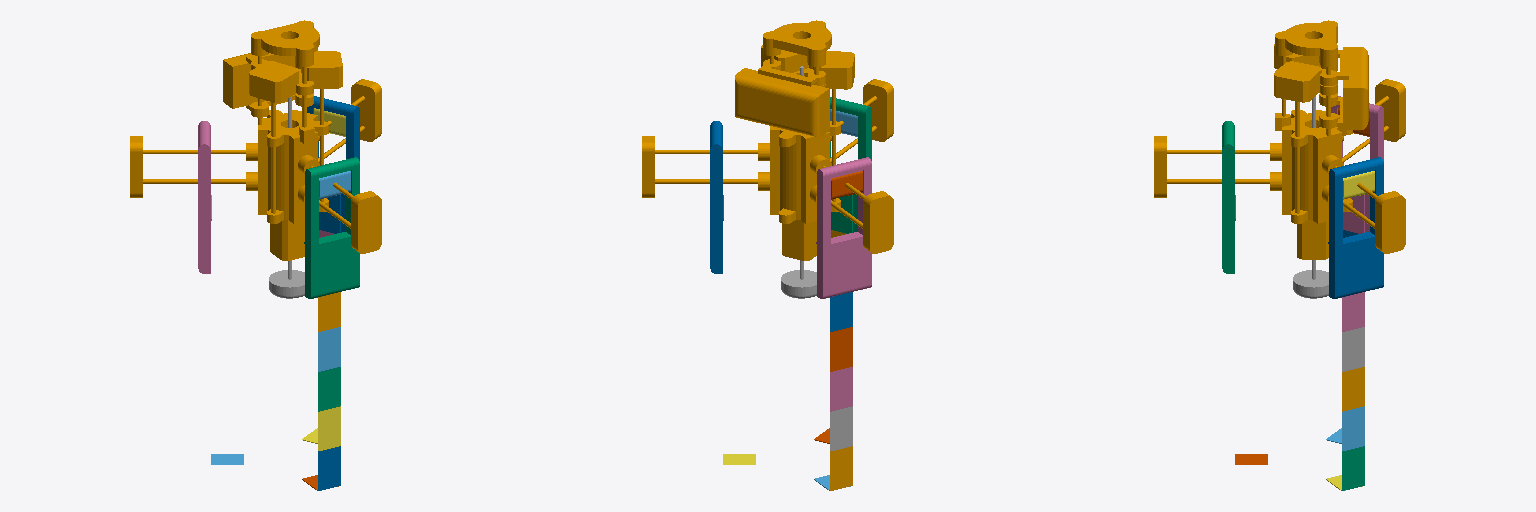
--- What the picture shows (computed from the rendered views, not written in the file) ---
Views: 3 orthographic renders of the robot side by side, from view 1: azimuth 30°, elevation 25°; view 2: azimuth 150°, elevation 25°; view 3: azimuth 270°, elevation 25°.
Model gripper with 27 links and 26 joints (18 revolute, 4 prismatic, 4 fixed), rooted at world, posed joints at zero except 3 at the middle of their limits (finger_1_prismatic_joint = 0.0915, finger_2_prismatic_joint = 0.0915, finger_3_prismatic_joint = 0.0915).
Visible links, largest first — view 1: gripper_base_link, finger_1, finger_3, finger_2, palm, finger_1_segment_link_2, finger_1_segment_link_3, finger_1_segment_link_5, finger_1_segment_link_4, finger_1_segment_link_1, finger_1_intermediate; view 2: gripper_base_link, finger_3, finger_2, finger_1, palm, finger_3_segment_link_2, finger_3_segment_link_3, finger_3_segment_link_5, finger_3_segment_link_4, finger_3_segment_link_1, finger_3_intermediate; view 3: gripper_base_link, finger_2, finger_1, finger_3, palm, finger_2_segment_link_2, finger_2_segment_link_3, finger_2_segment_link_5, finger_2_segment_link_4, finger_2_segment_link_1, finger_2_intermediate.
Link boxes in pixels (box(x1,y1,x2,y2)): gripper_base_link: box(130, 20, 381, 260); finger_1: box(304, 157, 359, 298); finger_3: box(198, 121, 211, 273); finger_2: box(307, 96, 359, 233); palm: box(269, 96, 304, 298); finger_1_segment_link_2: box(318, 327, 340, 371); finger_1_segment_link_3: box(318, 367, 340, 411); finger_1_segment_link_5: box(318, 446, 340, 490); finger_1_segment_link_4: box(318, 406, 340, 450); finger_1_segment_link_1: box(318, 292, 340, 331); finger_1_intermediate: box(319, 171, 350, 199); gripper_base_link: box(642, 20, 893, 260); finger_3: box(816, 157, 871, 298); finger_2: box(710, 121, 723, 273); finger_1: box(830, 97, 871, 233); palm: box(781, 66, 816, 298); finger_3_segment_link_2: box(830, 327, 852, 371); finger_3_segment_link_3: box(830, 367, 852, 411); finger_3_segment_link_5: box(830, 446, 852, 490); finger_3_segment_link_4: box(830, 406, 852, 450); finger_3_segment_link_1: box(830, 292, 852, 331); finger_3_intermediate: box(831, 171, 862, 199); gripper_base_link: box(1154, 20, 1405, 259); finger_2: box(1328, 157, 1383, 298); finger_1: box(1222, 121, 1235, 273); finger_3: box(1331, 96, 1383, 233); palm: box(1293, 96, 1328, 298); finger_2_segment_link_2: box(1342, 327, 1364, 371); finger_2_segment_link_3: box(1342, 367, 1364, 411); finger_2_segment_link_5: box(1342, 446, 1364, 490); finger_2_segment_link_4: box(1342, 406, 1364, 450); finger_2_segment_link_1: box(1342, 292, 1364, 331); finger_2_intermediate: box(1343, 171, 1374, 199).
Size in the robot's own frame: 0.3116 by 0.2699 by 0.5023 metres.
Meshes: 4 distinct files referenced, 8 mesh visuals loaded (4 binary STL).

URDF robot description (gripper):
<?xml version="1.0" ?>
<!-- =================================================================================== -->
<!-- |    This document was autogenerated by xacro from gripper.urdf.xacro             | -->
<!-- |    EDITING THIS FILE BY HAND IS NOT RECOMMENDED                                 | -->
<!-- =================================================================================== -->
<robot name="gripper">
  <!-- PARAMETERS TO BE SET BY HAND -->
  <!-- END OF PARAMETERS TO BE SET BY HAND -->
  <!-- PARAMETERS TO BE SET BY HAND -->
  <!-- END OF PARAMETER TO BE SET BY HAND -->
  <!-- BASE LINK -->
  <link name="gripper_base_link">
    <inertial>
      <mass value="1.5"/>
      <origin rpy="3.141592653589793 0 0" xyz="0 0 0.025"/>
      <inertia ixx="9.95e-3" ixy="2.73e-6" ixz="-14.32e-6" iyy="10.08e-3" iyz="121.38e-6" izz="5.13e-3"/>
    </inertial>
    <visual>
      <geometry>
        <mesh filename="package://gripper_description/meshes/main body visual.STL"/>
      </geometry>
    </visual>
    <collision>
      <geometry>
        <!--          <mesh filename="package://gripper_description/meshes/main body collision.STL"/>-->
        <cylinder length="0.1" radius="0.03"/>
      </geometry>
    </collision>
  </link>
  <!-- Intermediate link for prismatic joint -->
  <link name="finger_1_intermediate">
    <inertial>
      <mass value="0.1"/>
      <origin rpy="0 0 0" xyz="0 0 0"/>
      <inertia ixx="55.59e-6" ixy="-47.23e-6" ixz="1.16e-6" iyy="146.36e-6" iyz="1.00e-6" izz="154.18e-6"/>
    </inertial>
    <visual>
      <geometry>
        <mesh filename="package://gripper_description/meshes/nut visual.STL"/>
      </geometry>
    </visual>
    <collision>
      <geometry>
        <mesh filename="package://gripper_description/meshes/nut collision.STL"/>
      </geometry>
    </collision>
  </link>
  <!-- Main finger link -->
  <link name="finger_1">
    <inertial>
      <mass value="0.1"/>
      <origin rpy="0 0 0" xyz="0 0 0"/>
      <inertia ixx="55.59e-6" ixy="-47.23e-6" ixz="1.16e-6" iyy="146.36e-6" iyz="1.00e-6" izz="154.18e-6"/>
    </inertial>
    <visual>
      <geometry>
        <mesh filename="package://gripper_description/meshes/platform only visual.STL"/>
      </geometry>
    </visual>
    <collision>
      <geometry>
        <mesh filename="package://gripper_description/meshes/platform only collision.STL"/>
      </geometry>
    </collision>
  </link>
  <joint name="finger_1_prismatic_joint" type="prismatic">
    <axis rpy="0 0 0" xyz="0 1 0"/>
    <parent link="gripper_base_link"/>
    <child link="finger_1_intermediate"/>
    <origin rpy="4.71238898038469                    4.71238898038469                    1.5707963267948966" xyz="0.0                    0.0                    0"/>
    <limit effort="40.0" lower="0.049" upper="0.134" velocity="0.015"/>
    <dynamics damping="1.0"/>
  </joint>
  <joint name="finger_1_revolute_joint" type="revolute">
    <axis rpy="0 0 0" xyz="0 0 1"/>
    <parent link="finger_1_intermediate"/>
    <child link="finger_1"/>
    <origin rpy="0 0 0.0" xyz="0 0 0"/>
    <limit effort="40.0" lower="-0.7" upper="0.7" velocity="0.1"/>
    <dynamics damping="1.0"/>
  </joint>
  <!-- Intermediate link for prismatic joint -->
  <link name="finger_2_intermediate">
    <inertial>
      <mass value="0.1"/>
      <origin rpy="0 0 0" xyz="0 0 0"/>
      <inertia ixx="55.59e-6" ixy="-47.23e-6" ixz="1.16e-6" iyy="146.36e-6" iyz="1.00e-6" izz="154.18e-6"/>
    </inertial>
    <visual>
      <geometry>
        <mesh filename="package://gripper_description/meshes/nut visual.STL"/>
      </geometry>
    </visual>
    <collision>
      <geometry>
        <mesh filename="package://gripper_description/meshes/nut collision.STL"/>
      </geometry>
    </collision>
  </link>
  <!-- Main finger link -->
  <link name="finger_2">
    <inertial>
      <mass value="0.1"/>
      <origin rpy="0 0 0" xyz="0 0 0"/>
      <inertia ixx="55.59e-6" ixy="-47.23e-6" ixz="1.16e-6" iyy="146.36e-6" iyz="1.00e-6" izz="154.18e-6"/>
    </inertial>
    <visual>
      <geometry>
        <mesh filename="package://gripper_description/meshes/platform only visual.STL"/>
      </geometry>
    </visual>
    <collision>
      <geometry>
        <mesh filename="package://gripper_description/meshes/platform only collision.STL"/>
      </geometry>
    </collision>
  </link>
  <joint name="finger_2_prismatic_joint" type="prismatic">
    <axis rpy="0 0 0" xyz="0 1 0"/>
    <parent link="gripper_base_link"/>
    <child link="finger_2_intermediate"/>
    <origin rpy="4.71238898038469                    4.71238898038469                    -0.5235987755982987" xyz="0.0                    -0.0                    0"/>
    <limit effort="40.0" lower="0.049" upper="0.134" velocity="0.015"/>
    <dynamics damping="1.0"/>
  </joint>
  <joint name="finger_2_revolute_joint" type="revolute">
    <axis rpy="0 0 0" xyz="0 0 1"/>
    <parent link="finger_2_intermediate"/>
    <child link="finger_2"/>
    <origin rpy="0 0 0.0" xyz="0 0 0"/>
    <limit effort="40.0" lower="-0.7" upper="0.7" velocity="0.1"/>
    <dynamics damping="1.0"/>
  </joint>
  <!-- Intermediate link for prismatic joint -->
  <link name="finger_3_intermediate">
    <inertial>
      <mass value="0.1"/>
      <origin rpy="0 0 0" xyz="0 0 0"/>
      <inertia ixx="55.59e-6" ixy="-47.23e-6" ixz="1.16e-6" iyy="146.36e-6" iyz="1.00e-6" izz="154.18e-6"/>
    </inertial>
    <visual>
      <geometry>
        <mesh filename="package://gripper_description/meshes/nut visual.STL"/>
      </geometry>
    </visual>
    <collision>
      <geometry>
        <mesh filename="package://gripper_description/meshes/nut collision.STL"/>
      </geometry>
    </collision>
  </link>
  <!-- Main finger link -->
  <link name="finger_3">
    <inertial>
      <mass value="0.1"/>
      <origin rpy="0 0 0" xyz="0 0 0"/>
      <inertia ixx="55.59e-6" ixy="-47.23e-6" ixz="1.16e-6" iyy="146.36e-6" iyz="1.00e-6" izz="154.18e-6"/>
    </inertial>
    <visual>
      <geometry>
        <mesh filename="package://gripper_description/meshes/platform only visual.STL"/>
      </geometry>
    </visual>
    <collision>
      <geometry>
        <mesh filename="package://gripper_description/meshes/platform only collision.STL"/>
      </geometry>
    </collision>
  </link>
  <joint name="finger_3_prismatic_joint" type="prismatic">
    <axis rpy="0 0 0" xyz="0 1 0"/>
    <parent link="gripper_base_link"/>
    <child link="finger_3_intermediate"/>
    <origin rpy="4.71238898038469                    4.71238898038469                    -2.617993877991494" xyz="-0.0                    -0.0                    0"/>
    <limit effort="40.0" lower="0.049" upper="0.134" velocity="0.015"/>
    <dynamics damping="1.0"/>
  </joint>
  <joint name="finger_3_revolute_joint" type="revolute">
    <axis rpy="0 0 0" xyz="0 0 1"/>
    <parent link="finger_3_intermediate"/>
    <child link="finger_3"/>
    <origin rpy="0 0 0.0" xyz="0 0 0"/>
    <limit effort="40.0" lower="-0.7" upper="0.7" velocity="0.1"/>
    <dynamics damping="1.0"/>
  </joint>
  <!-- PALM -->
  <link name="palm">
    <inertial>
      <mass value="0.05"/>
      <origin rpy="0 0 0" xyz="0 0 0"/>
      <inertia ixx="10.0e-6" ixy="0.0" ixz="0.0" iyy="10.0e-6" iyz="0.0" izz="10.0e-6"/>
    </inertial>
    <visual>
      <origin rpy="0 0 0" xyz="0 0 0"/>
      <geometry>
        <mesh filename="package://gripper_description/meshes/palm visual.STL"/>
      </geometry>
    </visual>
    <collision>
      <geometry>
        <mesh filename="package://gripper_description/meshes/palm collision.STL"/>
      </geometry>
    </collision>
  </link>
  <joint name="palm_prismatic_joint" type="prismatic">
    <axis rpy="0 0 0" xyz="1 0 0"/>
    <parent link="gripper_base_link"/>
    <child link="palm"/>
    <origin rpy="0 -1.5707963267948966 0" xyz="0 0 0"/>
    <limit effort="40.0" lower="0.0" upper="0.165" velocity="0.036"/>
    <dynamics damping="1.0"/>
  </joint>
  <!-- PARAMETERS TO BE SET BY HAND -->
  <!-- END OF PARAMETERS TO BE SET BY HAND -->
  <joint name="finger_1_segment_joint_0" type="revolute">
    <origin rpy="1.5707963267948966 0 0" xyz="0.129 -0.007 0"/>
    <parent link="finger_1"/>
    <child link="finger_1_segment_link_1"/>
    <axis rpy="0 0 0" xyz="0 1 0"/>
    <limit effort="1000.0" lower="-1.0" upper="1.0" velocity="1.0"/>
    <dynamics damping="0.01" friction="0.0"/>
  </joint>
  <!-- END TESTING OF BASE JOINT (rather than fixed) -->
  <link name="finger_1_segment_link_1">
    <inertial>
      <mass value="0.013055555555555555"/>
      <inertia ixx="4.2692210648148146e-05" ixy="0.00" ixz="0.00" iyy="0.00048070609953703705" iyz="0.00" izz="0.0005233101851851851"/>
    </inertial>
    <visual>
      <origin rpy="0 0 0" xyz="0.0235 0 0"/>
      <geometry>
        <box size="0.047 0.028 0.0009"/>
      </geometry>
    </visual>
    <collision>
      <origin rpy="0 0 0" xyz="0.0235 0 0"/>
      <geometry>
        <box size="0.047 0.028 0.0009"/>
      </geometry>
    </collision>
  </link>
  <gazebo reference="finger_1_segment_link_1">
    <material>Gazebo/Orange</material>
    <mu1>0.1</mu1>
    <mu2>0.1</mu2>
    <maxVel>0.0</maxVel>
    <minDepth>0.001</minDepth>
    <!-- <kp>100</kp>
        <kd>1</kd> -->
  </gazebo>
  <link name="finger_1_segment_link_2">
    <inertial>
      <mass value="0.013055555555555555"/>
      <inertia ixx="4.2692210648148146e-05" ixy="0.00" ixz="0.00" iyy="0.00048070609953703705" iyz="0.00" izz="0.0005233101851851851"/>
    </inertial>
    <visual>
      <origin rpy="0 0 0" xyz="0.0235 0 0"/>
      <geometry>
        <box size="0.047 0.028 0.0009"/>
      </geometry>
    </visual>
    <collision>
      <origin rpy="0 0 0" xyz="0.0235 0 0"/>
      <geometry>
        <box size="0.047 0.028 0.0009"/>
      </geometry>
    </collision>
  </link>
  <gazebo reference="finger_1_segment_link_2">
    <material>Gazebo/Orange</material>
    <mu1>0.1</mu1>
    <mu2>0.1</mu2>
    <maxVel>0.0</maxVel>
    <minDepth>0.001</minDepth>
    <!-- <kp>100</kp>
        <kd>1</kd> -->
  </gazebo>
  <!-- bending joint -->
  <joint name="finger_1_segment_joint_1" type="revolute">
    <axis rpy="0 0 0" xyz="0 1 0"/>
    <parent link="finger_1_segment_link_1"/>
    <child link="finger_1_segment_link_2"/>
    <origin rpy="0 0 0" xyz="0.047 0 0"/>
    <limit effort="1000.0" lower="-1.0" upper="1.0" velocity="1.0"/>
    <dynamics damping="0.01" friction="0.0"/>
  </joint>
  <gazebo reference="finger_1_segment_joint_1">
    <provideFeedback>1</provideFeedback>
    <springReference>0.0</springReference>
    <implicitSpringDamper>1</implicitSpringDamper>
    <springStiffness>3.0</springStiffness>
  </gazebo>
  <!-- set transmission for gazebo ROS controllers-->
  <transmission name="finger_1_segment_tran_1">
    <type>transmission_interface/SimpleTransmission</type>
    <joint name="finger_1_segment_joint_1">
      <hardwareInterface>hardware_interface/EffortJointInterface</hardwareInterface>
    </joint>
    <actuator name="finger_1_segment_motor_1">
      <hardwareInterface>hardware_interface/EffortJointInterface</hardwareInterface>
      <mechanicalReduction>1</mechanicalReduction>
    </actuator>
  </transmission>
  <link name="finger_1_segment_link_3">
    <inertial>
      <mass value="0.013055555555555555"/>
      <inertia ixx="4.2692210648148146e-05" ixy="0.00" ixz="0.00" iyy="0.00048070609953703705" iyz="0.00" izz="0.0005233101851851851"/>
    </inertial>
    <visual>
      <origin rpy="0 0 0" xyz="0.0235 0 0"/>
      <geometry>
        <box size="0.047 0.028 0.0009"/>
      </geometry>
    </visual>
    <collision>
      <origin rpy="0 0 0" xyz="0.0235 0 0"/>
      <geometry>
        <box size="0.047 0.028 0.0009"/>
      </geometry>
    </collision>
  </link>
  <gazebo reference="finger_1_segment_link_3">
    <material>Gazebo/Orange</material>
    <mu1>0.1</mu1>
    <mu2>0.1</mu2>
    <maxVel>0.0</maxVel>
    <minDepth>0.001</minDepth>
    <!-- <kp>100</kp>
        <kd>1</kd> -->
  </gazebo>
  <!-- bending joint -->
  <joint name="finger_1_segment_joint_2" type="revolute">
    <axis rpy="0 0 0" xyz="0 1 0"/>
    <parent link="finger_1_segment_link_2"/>
    <child link="finger_1_segment_link_3"/>
    <origin rpy="0 0 0" xyz="0.047 0 0"/>
    <limit effort="1000.0" lower="-1.0" upper="1.0" velocity="1.0"/>
    <dynamics damping="0.01" friction="0.0"/>
  </joint>
  <gazebo reference="finger_1_segment_joint_2">
    <provideFeedback>1</provideFeedback>
    <springReference>0.0</springReference>
    <implicitSpringDamper>1</implicitSpringDamper>
    <springStiffness>3.0</springStiffness>
  </gazebo>
  <!-- set transmission for gazebo ROS controllers-->
  <transmission name="finger_1_segment_tran_2">
    <type>transmission_interface/SimpleTransmission</type>
    <joint name="finger_1_segment_joint_2">
      <hardwareInterface>hardware_interface/EffortJointInterface</hardwareInterface>
    </joint>
    <actuator name="finger_1_segment_motor_2">
      <hardwareInterface>hardware_interface/EffortJointInterface</hardwareInterface>
      <mechanicalReduction>1</mechanicalReduction>
    </actuator>
  </transmission>
  <link name="finger_1_segment_link_4">
    <inertial>
      <mass value="0.013055555555555555"/>
      <inertia ixx="4.2692210648148146e-05" ixy="0.00" ixz="0.00" iyy="0.00048070609953703705" iyz="0.00" izz="0.0005233101851851851"/>
    </inertial>
    <visual>
      <origin rpy="0 0 0" xyz="0.0235 0 0"/>
      <geometry>
        <box size="0.047 0.028 0.0009"/>
      </geometry>
    </visual>
    <collision>
      <origin rpy="0 0 0" xyz="0.0235 0 0"/>
      <geometry>
        <box size="0.047 0.028 0.0009"/>
      </geometry>
    </collision>
  </link>
  <gazebo reference="finger_1_segment_link_4">
    <material>Gazebo/Orange</material>
    <mu1>0.1</mu1>
    <mu2>0.1</mu2>
    <maxVel>0.0</maxVel>
    <minDepth>0.001</minDepth>
    <!-- <kp>100</kp>
        <kd>1</kd> -->
  </gazebo>
  <!-- bending joint -->
  <joint name="finger_1_segment_joint_3" type="revolute">
    <axis rpy="0 0 0" xyz="0 1 0"/>
    <parent link="finger_1_segment_link_3"/>
    <child link="finger_1_segment_link_4"/>
    <origin rpy="0 0 0" xyz="0.047 0 0"/>
    <limit effort="1000.0" lower="-1.0" upper="1.0" velocity="1.0"/>
    <dynamics damping="0.01" friction="0.0"/>
  </joint>
  <gazebo reference="finger_1_segment_joint_3">
    <provideFeedback>1</provideFeedback>
    <springReference>0.0</springReference>
    <implicitSpringDamper>1</implicitSpringDamper>
    <springStiffness>3.0</springStiffness>
  </gazebo>
  <!-- set transmission for gazebo ROS controllers-->
  <transmission name="finger_1_segment_tran_3">
    <type>transmission_interface/SimpleTransmission</type>
    <joint name="finger_1_segment_joint_3">
      <hardwareInterface>hardware_interface/EffortJointInterface</hardwareInterface>
    </joint>
    <actuator name="finger_1_segment_motor_3">
      <hardwareInterface>hardware_interface/EffortJointInterface</hardwareInterface>
      <mechanicalReduction>1</mechanicalReduction>
    </actuator>
  </transmission>
  <link name="finger_1_segment_link_5">
    <inertial>
      <mass value="0.013055555555555555"/>
      <inertia ixx="4.2692210648148146e-05" ixy="0.00" ixz="0.00" iyy="0.00048070609953703705" iyz="0.00" izz="0.0005233101851851851"/>
    </inertial>
    <visual>
      <origin rpy="0 0 0" xyz="0.0235 0 0"/>
      <geometry>
        <box size="0.047 0.028 0.0009"/>
      </geometry>
    </visual>
    <collision>
      <origin rpy="0 0 0" xyz="0.0235 0 0"/>
      <geometry>
        <box size="0.047 0.028 0.0009"/>
      </geometry>
    </collision>
  </link>
  <gazebo reference="finger_1_segment_link_5">
    <material>Gazebo/Orange</material>
    <mu1>0.1</mu1>
    <mu2>0.1</mu2>
    <maxVel>0.0</maxVel>
    <minDepth>0.001</minDepth>
    <!-- <kp>100</kp>
        <kd>1</kd> -->
  </gazebo>
  <!-- bending joint -->
  <joint name="finger_1_segment_joint_4" type="revolute">
    <axis rpy="0 0 0" xyz="0 1 0"/>
    <parent link="finger_1_segment_link_4"/>
    <child link="finger_1_segment_link_5"/>
    <origin rpy="0 0 0" xyz="0.047 0 0"/>
    <limit effort="1000.0" lower="-1.0" upper="1.0" velocity="1.0"/>
    <dynamics damping="0.01" friction="0.0"/>
  </joint>
  <gazebo reference="finger_1_segment_joint_4">
    <provideFeedback>1</provideFeedback>
    <springReference>0.0</springReference>
    <implicitSpringDamper>1</implicitSpringDamper>
    <springStiffness>3.0</springStiffness>
  </gazebo>
  <!-- set transmission for gazebo ROS controllers-->
  <transmission name="finger_1_segment_tran_4">
    <type>transmission_interface/SimpleTransmission</type>
    <joint name="finger_1_segment_joint_4">
      <hardwareInterface>hardware_interface/EffortJointInterface</hardwareInterface>
    </joint>
    <actuator name="finger_1_segment_motor_4">
      <hardwareInterface>hardware_interface/EffortJointInterface</hardwareInterface>
      <mechanicalReduction>1</mechanicalReduction>
    </actuator>
  </transmission>
  <!-- Add the finger hook link -->
  <link name="finger_1_finger_hook_link">
    <inertial>
      <mass value="0.009722222222222222"/>
      <inertia ixx="3.179207175925926e-05" ixy="0.00" ixz="0.00" iyy="0.00019852818287037038" iyz="0.00" izz="0.00023025462962962965"/>
    </inertial>
    <visual>
      <origin rpy="0 0 0" xyz="0.0175 0 0"/>
      <geometry>
        <box size="0.035 0.028 0.0009"/>
      </geometry>
    </visual>
    <collision>
      <origin rpy="0 0 0" xyz="0.0175 0 0"/>
      <geometry>
        <box size="0.035 0.028 0.0009"/>
      </geometry>
    </collision>
  </link>
  <gazebo reference="finger_1_finger_hook_link">
    <material>Gazebo/Orange</material>
    <mu1>0.1</mu1>
    <mu2>0.1</mu2>
    <maxVel>0.0</maxVel>
    <minDepth>0.001</minDepth>
    <!-- <kp>100</kp>
        <kd>1</kd> -->
  </gazebo>
  <joint name="finger_1_finger_hook_joint" type="fixed">
    <parent link="finger_1_segment_link_5"/>
    <child link="finger_1_finger_hook_link"/>
    <origin rpy="0 -1.5707963267948502 0" xyz="0.047 0 0"/>
  </joint>
  <!-- PARAMETERS TO BE SET BY HAND -->
  <!-- END OF PARAMETERS TO BE SET BY HAND -->
  <joint name="finger_2_segment_joint_0" type="revolute">
    <origin rpy="1.5707963267948966 0 0" xyz="0.129 -0.007 0"/>
    <parent link="finger_2"/>
    <child link="finger_2_segment_link_1"/>
    <axis rpy="0 0 0" xyz="0 1 0"/>
    <limit effort="1000.0" lower="-1.0" upper="1.0" velocity="1.0"/>
    <dynamics damping="0.01" friction="0.0"/>
  </joint>
  <!-- END TESTING OF BASE JOINT (rather than fixed) -->
  <link name="finger_2_segment_link_1">
    <inertial>
      <mass value="0.013055555555555555"/>
      <inertia ixx="4.2692210648148146e-05" ixy="0.00" ixz="0.00" iyy="0.00048070609953703705" iyz="0.00" izz="0.0005233101851851851"/>
    </inertial>
    <visual>
      <origin rpy="0 0 0" xyz="0.0235 0 0"/>
      <geometry>
        <box size="0.047 0.028 0.0009"/>
      </geometry>
    </visual>
    <collision>
      <origin rpy="0 0 0" xyz="0.0235 0 0"/>
      <geometry>
        <box size="0.047 0.028 0.0009"/>
      </geometry>
    </collision>
  </link>
  <gazebo reference="finger_2_segment_link_1">
    <material>Gazebo/Orange</material>
    <mu1>0.1</mu1>
    <mu2>0.1</mu2>
    <maxVel>0.0</maxVel>
    <minDepth>0.001</minDepth>
    <!-- <kp>100</kp>
        <kd>1</kd> -->
  </gazebo>
  <link name="finger_2_segment_link_2">
    <inertial>
      <mass value="0.013055555555555555"/>
      <inertia ixx="4.2692210648148146e-05" ixy="0.00" ixz="0.00" iyy="0.00048070609953703705" iyz="0.00" izz="0.0005233101851851851"/>
    </inertial>
    <visual>
      <origin rpy="0 0 0" xyz="0.0235 0 0"/>
      <geometry>
        <box size="0.047 0.028 0.0009"/>
      </geometry>
    </visual>
    <collision>
      <origin rpy="0 0 0" xyz="0.0235 0 0"/>
      <geometry>
        <box size="0.047 0.028 0.0009"/>
      </geometry>
    </collision>
  </link>
  <gazebo reference="finger_2_segment_link_2">
    <material>Gazebo/Orange</material>
    <mu1>0.1</mu1>
    <mu2>0.1</mu2>
    <maxVel>0.0</maxVel>
    <minDepth>0.001</minDepth>
    <!-- <kp>100</kp>
        <kd>1</kd> -->
  </gazebo>
  <!-- bending joint -->
  <joint name="finger_2_segment_joint_1" type="revolute">
    <axis rpy="0 0 0" xyz="0 1 0"/>
    <parent link="finger_2_segment_link_1"/>
    <child link="finger_2_segment_link_2"/>
    <origin rpy="0 0 0" xyz="0.047 0 0"/>
    <limit effort="1000.0" lower="-1.0" upper="1.0" velocity="1.0"/>
    <dynamics damping="0.01" friction="0.0"/>
  </joint>
  <gazebo reference="finger_2_segment_joint_1">
    <provideFeedback>1</provideFeedback>
    <springReference>0.0</springReference>
    <implicitSpringDamper>1</implicitSpringDamper>
    <springStiffness>3.0</springStiffness>
  </gazebo>
  <!-- set transmission for gazebo ROS controllers-->
  <transmission name="finger_2_segment_tran_1">
    <type>transmission_interface/SimpleTransmission</type>
    <joint name="finger_2_segment_joint_1">
      <hardwareInterface>hardware_interface/EffortJointInterface</hardwareInterface>
    </joint>
    <actuator name="finger_2_segment_motor_1">
      <hardwareInterface>hardware_interface/EffortJointInterface</hardwareInterface>
      <mechanicalReduction>1</mechanicalReduction>
    </actuator>
  </transmission>
  <link name="finger_2_segment_link_3">
    <inertial>
      <mass value="0.013055555555555555"/>
      <inertia ixx="4.2692210648148146e-05" ixy="0.00" ixz="0.00" iyy="0.00048070609953703705" iyz="0.00" izz="0.0005233101851851851"/>
    </inertial>
    <visual>
      <origin rpy="0 0 0" xyz="0.0235 0 0"/>
      <geometry>
        <box size="0.047 0.028 0.0009"/>
      </geometry>
    </visual>
    <collision>
      <origin rpy="0 0 0" xyz="0.0235 0 0"/>
      <geometry>
        <box size="0.047 0.028 0.0009"/>
      </geometry>
    </collision>
  </link>
  <gazebo reference="finger_2_segment_link_3">
    <material>Gazebo/Orange</material>
    <mu1>0.1</mu1>
    <mu2>0.1</mu2>
    <maxVel>0.0</maxVel>
    <minDepth>0.001</minDepth>
    <!-- <kp>100</kp>
        <kd>1</kd> -->
  </gazebo>
  <!-- bending joint -->
  <joint name="finger_2_segment_joint_2" type="revolute">
    <axis rpy="0 0 0" xyz="0 1 0"/>
    <parent link="finger_2_segment_link_2"/>
    <child link="finger_2_segment_link_3"/>
    <origin rpy="0 0 0" xyz="0.047 0 0"/>
    <limit effort="1000.0" lower="-1.0" upper="1.0" velocity="1.0"/>
    <dynamics damping="0.01" friction="0.0"/>
  </joint>
  <gazebo reference="finger_2_segment_joint_2">
    <provideFeedback>1</provideFeedback>
    <springReference>0.0</springReference>
    <implicitSpringDamper>1</implicitSpringDamper>
    <springStiffness>3.0</springStiffness>
  </gazebo>
  <!-- set transmission for gazebo ROS controllers-->
  <transmission name="finger_2_segment_tran_2">
    <type>transmission_interface/SimpleTransmission</type>
    <joint name="finger_2_segment_joint_2">
      <hardwareInterface>hardware_interface/EffortJointInterface</hardwareInterface>
    </joint>
    <actuator name="finger_2_segment_motor_2">
      <hardwareInterface>hardware_interface/EffortJointInterface</hardwareInterface>
      <mechanicalReduction>1</mechanicalReduction>
    </actuator>
  </transmission>
  <link name="finger_2_segment_link_4">
    <inertial>
      <mass value="0.013055555555555555"/>
      <inertia ixx="4.2692210648148146e-05" ixy="0.00" ixz="0.00" iyy="0.00048070609953703705" iyz="0.00" izz="0.0005233101851851851"/>
    </inertial>
    <visual>
      <origin rpy="0 0 0" xyz="0.0235 0 0"/>
      <geometry>
        <box size="0.047 0.028 0.0009"/>
      </geometry>
    </visual>
    <collision>
      <origin rpy="0 0 0" xyz="0.0235 0 0"/>
      <geometry>
        <box size="0.047 0.028 0.0009"/>
      </geometry>
    </collision>
  </link>
  <gazebo reference="finger_2_segment_link_4">
    <material>Gazebo/Orange</material>
    <mu1>0.1</mu1>
    <mu2>0.1</mu2>
    <maxVel>0.0</maxVel>
    <minDepth>0.001</minDepth>
    <!-- <kp>100</kp>
        <kd>1</kd> -->
  </gazebo>
  <!-- bending joint -->
  <joint name="finger_2_segment_joint_3" type="revolute">
    <axis rpy="0 0 0" xyz="0 1 0"/>
    <parent link="finger_2_segment_link_3"/>
    <child link="finger_2_segment_link_4"/>
    <origin rpy="0 0 0" xyz="0.047 0 0"/>
    <limit effort="1000.0" lower="-1.0" upper="1.0" velocity="1.0"/>
    <dynamics damping="0.01" friction="0.0"/>
  </joint>
  <gazebo reference="finger_2_segment_joint_3">
    <provideFeedback>1</provideFeedback>
    <springReference>0.0</springReference>
    <implicitSpringDamper>1</implicitSpringDamper>
    <springStiffness>3.0</springStiffness>
  </gazebo>
  <!-- set transmission for gazebo ROS controllers-->
  <transmission name="finger_2_segment_tran_3">
    <type>transmission_interface/SimpleTransmission</type>
    <joint name="finger_2_segment_joint_3">
      <hardwareInterface>hardware_interface/EffortJointInterface</hardwareInterface>
    </joint>
    <actuator name="finger_2_segment_motor_3">
      <hardwareInterface>hardware_interface/EffortJointInterface</hardwareInterface>
      <mechanicalReduction>1</mechanicalReduction>
    </actuator>
  </transmission>
  <link name="finger_2_segment_link_5">
    <inertial>
      <mass value="0.013055555555555555"/>
      <inertia ixx="4.2692210648148146e-05" ixy="0.00" ixz="0.00" iyy="0.00048070609953703705" iyz="0.00" izz="0.0005233101851851851"/>
    </inertial>
    <visual>
      <origin rpy="0 0 0" xyz="0.0235 0 0"/>
      <geometry>
        <box size="0.047 0.028 0.0009"/>
      </geometry>
    </visual>
    <collision>
      <origin rpy="0 0 0" xyz="0.0235 0 0"/>
      <geometry>
        <box size="0.047 0.028 0.0009"/>
      </geometry>
    </collision>
  </link>
  <gazebo reference="finger_2_segment_link_5">
    <material>Gazebo/Orange</material>
    <mu1>0.1</mu1>
    <mu2>0.1</mu2>
    <maxVel>0.0</maxVel>
    <minDepth>0.001</minDepth>
    <!-- <kp>100</kp>
        <kd>1</kd> -->
  </gazebo>
  <!-- bending joint -->
  <joint name="finger_2_segment_joint_4" type="revolute">
    <axis rpy="0 0 0" xyz="0 1 0"/>
    <parent link="finger_2_segment_link_4"/>
    <child link="finger_2_segment_link_5"/>
    <origin rpy="0 0 0" xyz="0.047 0 0"/>
    <limit effort="1000.0" lower="-1.0" upper="1.0" velocity="1.0"/>
    <dynamics damping="0.01" friction="0.0"/>
  </joint>
  <gazebo reference="finger_2_segment_joint_4">
    <provideFeedback>1</provideFeedback>
    <springReference>0.0</springReference>
    <implicitSpringDamper>1</implicitSpringDamper>
    <springStiffness>3.0</springStiffness>
  </gazebo>
  <!-- set transmission for gazebo ROS controllers-->
  <transmission name="finger_2_segment_tran_4">
    <type>transmission_interface/SimpleTransmission</type>
    <joint name="finger_2_segment_joint_4">
      <hardwareInterface>hardware_interface/EffortJointInterface</hardwareInterface>
    </joint>
    <actuator name="finger_2_segment_motor_4">
      <hardwareInterface>hardware_interface/EffortJointInterface</hardwareInterface>
      <mechanicalReduction>1</mechanicalReduction>
    </actuator>
  </transmission>
  <!-- Add the finger hook link -->
  <link name="finger_2_finger_hook_link">
    <inertial>
      <mass value="0.009722222222222222"/>
      <inertia ixx="3.179207175925926e-05" ixy="0.00" ixz="0.00" iyy="0.00019852818287037038" iyz="0.00" izz="0.00023025462962962965"/>
    </inertial>
    <visual>
      <origin rpy="0 0 0" xyz="0.0175 0 0"/>
      <geometry>
        <box size="0.035 0.028 0.0009"/>
      </geometry>
    </visual>
    <collision>
      <origin rpy="0 0 0" xyz="0.0175 0 0"/>
      <geometry>
        <box size="0.035 0.028 0.0009"/>
      </geometry>
    </collision>
  </link>
  <gazebo reference="finger_2_finger_hook_link">
    <material>Gazebo/Orange</material>
    <mu1>0.1</mu1>
    <mu2>0.1</mu2>
    <maxVel>0.0</maxVel>
    <minDepth>0.001</minDepth>
    <!-- <kp>100</kp>
        <kd>1</kd> -->
  </gazebo>
  <joint name="finger_2_finger_hook_joint" type="fixed">
    <parent link="finger_2_segment_link_5"/>
    <child link="finger_2_finger_hook_link"/>
    <origin rpy="0 -1.5707963267948502 0" xyz="0.047 0 0"/>
  </joint>
  <!-- PARAMETERS TO BE SET BY HAND -->
  <!-- END OF PARAMETERS TO BE SET BY HAND -->
  <joint name="finger_3_segment_joint_0" type="revolute">
    <origin rpy="1.5707963267948966 0 0" xyz="0.129 -0.007 0"/>
    <parent link="finger_3"/>
    <child link="finger_3_segment_link_1"/>
    <axis rpy="0 0 0" xyz="0 1 0"/>
    <limit effort="1000.0" lower="-1.0" upper="1.0" velocity="1.0"/>
    <dynamics damping="0.01" friction="0.0"/>
  </joint>
  <!-- END TESTING OF BASE JOINT (rather than fixed) -->
  <link name="finger_3_segment_link_1">
    <inertial>
      <mass value="0.013055555555555555"/>
      <inertia ixx="4.2692210648148146e-05" ixy="0.00" ixz="0.00" iyy="0.00048070609953703705" iyz="0.00" izz="0.0005233101851851851"/>
    </inertial>
    <visual>
      <origin rpy="0 0 0" xyz="0.0235 0 0"/>
      <geometry>
        <box size="0.047 0.028 0.0009"/>
      </geometry>
    </visual>
    <collision>
      <origin rpy="0 0 0" xyz="0.0235 0 0"/>
      <geometry>
        <box size="0.047 0.028 0.0009"/>
      </geometry>
    </collision>
  </link>
  <gazebo reference="finger_3_segment_link_1">
    <material>Gazebo/Orange</material>
    <mu1>0.1</mu1>
    <mu2>0.1</mu2>
    <maxVel>0.0</maxVel>
    <minDepth>0.001</minDepth>
    <!-- <kp>100</kp>
        <kd>1</kd> -->
  </gazebo>
  <link name="finger_3_segment_link_2">
    <inertial>
      <mass value="0.013055555555555555"/>
      <inertia ixx="4.2692210648148146e-05" ixy="0.00" ixz="0.00" iyy="0.00048070609953703705" iyz="0.00" izz="0.0005233101851851851"/>
    </inertial>
    <visual>
      <origin rpy="0 0 0" xyz="0.0235 0 0"/>
      <geometry>
        <box size="0.047 0.028 0.0009"/>
      </geometry>
    </visual>
    <collision>
      <origin rpy="0 0 0" xyz="0.0235 0 0"/>
      <geometry>
        <box size="0.047 0.028 0.0009"/>
      </geometry>
    </collision>
  </link>
  <gazebo reference="finger_3_segment_link_2">
    <material>Gazebo/Orange</material>
    <mu1>0.1</mu1>
    <mu2>0.1</mu2>
    <maxVel>0.0</maxVel>
    <minDepth>0.001</minDepth>
    <!-- <kp>100</kp>
        <kd>1</kd> -->
  </gazebo>
  <!-- bending joint -->
  <joint name="finger_3_segment_joint_1" type="revolute">
    <axis rpy="0 0 0" xyz="0 1 0"/>
    <parent link="finger_3_segment_link_1"/>
    <child link="finger_3_segment_link_2"/>
    <origin rpy="0 0 0" xyz="0.047 0 0"/>
    <limit effort="1000.0" lower="-1.0" upper="1.0" velocity="1.0"/>
    <dynamics damping="0.01" friction="0.0"/>
  </joint>
  <gazebo reference="finger_3_segment_joint_1">
    <provideFeedback>1</provideFeedback>
    <springReference>0.0</springReference>
    <implicitSpringDamper>1</implicitSpringDamper>
    <springStiffness>3.0</springStiffness>
  </gazebo>
  <!-- set transmission for gazebo ROS controllers-->
  <transmission name="finger_3_segment_tran_1">
    <type>transmission_interface/SimpleTransmission</type>
    <joint name="finger_3_segment_joint_1">
      <hardwareInterface>hardware_interface/EffortJointInterface</hardwareInterface>
    </joint>
    <actuator name="finger_3_segment_motor_1">
      <hardwareInterface>hardware_interface/EffortJointInterface</hardwareInterface>
      <mechanicalReduction>1</mechanicalReduction>
    </actuator>
  </transmission>
  <link name="finger_3_segment_link_3">
    <inertial>
      <mass value="0.013055555555555555"/>
      <inertia ixx="4.2692210648148146e-05" ixy="0.00" ixz="0.00" iyy="0.00048070609953703705" iyz="0.00" izz="0.0005233101851851851"/>
    </inertial>
    <visual>
      <origin rpy="0 0 0" xyz="0.0235 0 0"/>
      <geometry>
        <box size="0.047 0.028 0.0009"/>
      </geometry>
    </visual>
    <collision>
      <origin rpy="0 0 0" xyz="0.0235 0 0"/>
      <geometry>
        <box size="0.047 0.028 0.0009"/>
      </geometry>
    </collision>
  </link>
  <gazebo reference="finger_3_segment_link_3">
    <material>Gazebo/Orange</material>
    <mu1>0.1</mu1>
    <mu2>0.1</mu2>
    <maxVel>0.0</maxVel>
    <minDepth>0.001</minDepth>
    <!-- <kp>100</kp>
        <kd>1</kd> -->
  </gazebo>
  <!-- bending joint -->
  <joint name="finger_3_segment_joint_2" type="revolute">
    <axis rpy="0 0 0" xyz="0 1 0"/>
    <parent link="finger_3_segment_link_2"/>
    <child link="finger_3_segment_link_3"/>
    <origin rpy="0 0 0" xyz="0.047 0 0"/>
    <limit effort="1000.0" lower="-1.0" upper="1.0" velocity="1.0"/>
    <dynamics damping="0.01" friction="0.0"/>
  </joint>
  <gazebo reference="finger_3_segment_joint_2">
    <provideFeedback>1</provideFeedback>
    <springReference>0.0</springReference>
    <implicitSpringDamper>1</implicitSpringDamper>
    <springStiffness>3.0</springStiffness>
  </gazebo>
  <!-- set transmission for gazebo ROS controllers-->
  <transmission name="finger_3_segment_tran_2">
    <type>transmission_interface/SimpleTransmission</type>
    <joint name="finger_3_segment_joint_2">
      <hardwareInterface>hardware_interface/EffortJointInterface</hardwareInterface>
    </joint>
    <actuator name="finger_3_segment_motor_2">
      <hardwareInterface>hardware_interface/EffortJointInterface</hardwareInterface>
      <mechanicalReduction>1</mechanicalReduction>
    </actuator>
  </transmission>
  <link name="finger_3_segment_link_4">
    <inertial>
      <mass value="0.013055555555555555"/>
      <inertia ixx="4.2692210648148146e-05" ixy="0.00" ixz="0.00" iyy="0.00048070609953703705" iyz="0.00" izz="0.0005233101851851851"/>
    </inertial>
    <visual>
      <origin rpy="0 0 0" xyz="0.0235 0 0"/>
      <geometry>
        <box size="0.047 0.028 0.0009"/>
      </geometry>
    </visual>
    <collision>
      <origin rpy="0 0 0" xyz="0.0235 0 0"/>
      <geometry>
        <box size="0.047 0.028 0.0009"/>
      </geometry>
    </collision>
  </link>
  <gazebo reference="finger_3_segment_link_4">
    <material>Gazebo/Orange</material>
    <mu1>0.1</mu1>
    <mu2>0.1</mu2>
    <maxVel>0.0</maxVel>
    <minDepth>0.001</minDepth>
    <!-- <kp>100</kp>
        <kd>1</kd> -->
  </gazebo>
  <!-- bending joint -->
  <joint name="finger_3_segment_joint_3" type="revolute">
    <axis rpy="0 0 0" xyz="0 1 0"/>
    <parent link="finger_3_segment_link_3"/>
    <child link="finger_3_segment_link_4"/>
    <origin rpy="0 0 0" xyz="0.047 0 0"/>
    <limit effort="1000.0" lower="-1.0" upper="1.0" velocity="1.0"/>
    <dynamics damping="0.01" friction="0.0"/>
  </joint>
  <gazebo reference="finger_3_segment_joint_3">
    <provideFeedback>1</provideFeedback>
    <springReference>0.0</springReference>
    <implicitSpringDamper>1</implicitSpringDamper>
    <springStiffness>3.0</springStiffness>
  </gazebo>
  <!-- set transmission for gazebo ROS controllers-->
  <transmission name="finger_3_segment_tran_3">
    <type>transmission_interface/SimpleTransmission</type>
    <joint name="finger_3_segment_joint_3">
      <hardwareInterface>hardware_interface/EffortJointInterface</hardwareInterface>
    </joint>
    <actuator name="finger_3_segment_motor_3">
      <hardwareInterface>hardware_interface/EffortJointInterface</hardwareInterface>
      <mechanicalReduction>1</mechanicalReduction>
    </actuator>
  </transmission>
  <link name="finger_3_segment_link_5">
    <inertial>
      <mass value="0.013055555555555555"/>
      <inertia ixx="4.2692210648148146e-05" ixy="0.00" ixz="0.00" iyy="0.00048070609953703705" iyz="0.00" izz="0.0005233101851851851"/>
    </inertial>
    <visual>
      <origin rpy="0 0 0" xyz="0.0235 0 0"/>
      <geometry>
        <box size="0.047 0.028 0.0009"/>
      </geometry>
    </visual>
    <collision>
      <origin rpy="0 0 0" xyz="0.0235 0 0"/>
      <geometry>
        <box size="0.047 0.028 0.0009"/>
      </geometry>
    </collision>
  </link>
  <gazebo reference="finger_3_segment_link_5">
    <material>Gazebo/Orange</material>
    <mu1>0.1</mu1>
    <mu2>0.1</mu2>
    <maxVel>0.0</maxVel>
    <minDepth>0.001</minDepth>
    <!-- <kp>100</kp>
        <kd>1</kd> -->
  </gazebo>
  <!-- bending joint -->
  <joint name="finger_3_segment_joint_4" type="revolute">
    <axis rpy="0 0 0" xyz="0 1 0"/>
    <parent link="finger_3_segment_link_4"/>
    <child link="finger_3_segment_link_5"/>
    <origin rpy="0 0 0" xyz="0.047 0 0"/>
    <limit effort="1000.0" lower="-1.0" upper="1.0" velocity="1.0"/>
    <dynamics damping="0.01" friction="0.0"/>
  </joint>
  <gazebo reference="finger_3_segment_joint_4">
    <provideFeedback>1</provideFeedback>
    <springReference>0.0</springReference>
    <implicitSpringDamper>1</implicitSpringDamper>
    <springStiffness>3.0</springStiffness>
  </gazebo>
  <!-- set transmission for gazebo ROS controllers-->
  <transmission name="finger_3_segment_tran_4">
    <type>transmission_interface/SimpleTransmission</type>
    <joint name="finger_3_segment_joint_4">
      <hardwareInterface>hardware_interface/EffortJointInterface</hardwareInterface>
    </joint>
    <actuator name="finger_3_segment_motor_4">
      <hardwareInterface>hardware_interface/EffortJointInterface</hardwareInterface>
      <mechanicalReduction>1</mechanicalReduction>
    </actuator>
  </transmission>
  <!-- Add the finger hook link -->
  <link name="finger_3_finger_hook_link">
    <inertial>
      <mass value="0.009722222222222222"/>
      <inertia ixx="3.179207175925926e-05" ixy="0.00" ixz="0.00" iyy="0.00019852818287037038" iyz="0.00" izz="0.00023025462962962965"/>
    </inertial>
    <visual>
      <origin rpy="0 0 0" xyz="0.0175 0 0"/>
      <geometry>
        <box size="0.035 0.028 0.0009"/>
      </geometry>
    </visual>
    <collision>
      <origin rpy="0 0 0" xyz="0.0175 0 0"/>
      <geometry>
        <box size="0.035 0.028 0.0009"/>
      </geometry>
    </collision>
  </link>
  <gazebo reference="finger_3_finger_hook_link">
    <material>Gazebo/Orange</material>
    <mu1>0.1</mu1>
    <mu2>0.1</mu2>
    <maxVel>0.0</maxVel>
    <minDepth>0.001</minDepth>
    <!-- <kp>100</kp>
        <kd>1</kd> -->
  </gazebo>
  <joint name="finger_3_finger_hook_joint" type="fixed">
    <parent link="finger_3_segment_link_5"/>
    <child link="finger_3_finger_hook_link"/>
    <origin rpy="0 -1.5707963267948502 0" xyz="0.047 0 0"/>
  </joint>
  <gazebo>
    <plugin filename="libfinger_controller_plugin.so" name="finger_controller_plugin"/>
  </gazebo>
  <!-- attach gripper to the ground for gazebo -->
  <link name="world"/>
  <joint name="world_to_base" type="fixed">
    <origin rpy="3.141592653589793 0 0" xyz="0 0 1"/>
    <parent link="world"/>
    <child link="gripper_base_link"/>
  </joint>
</robot>
